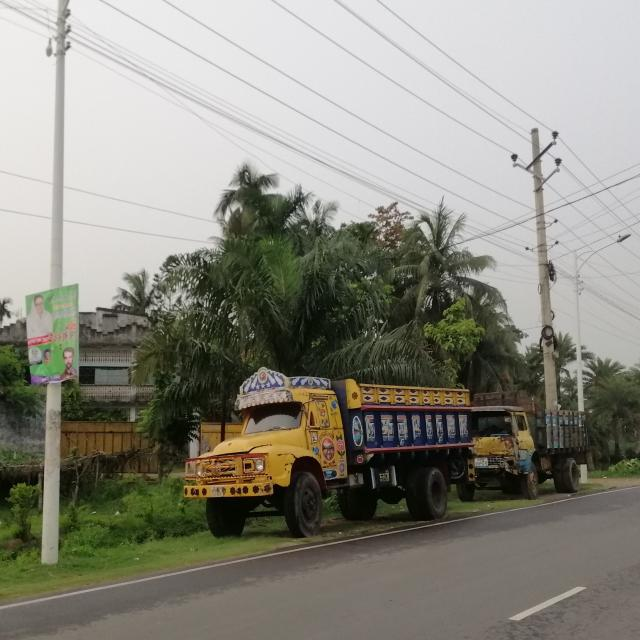Truck: (155, 367, 475, 541)
